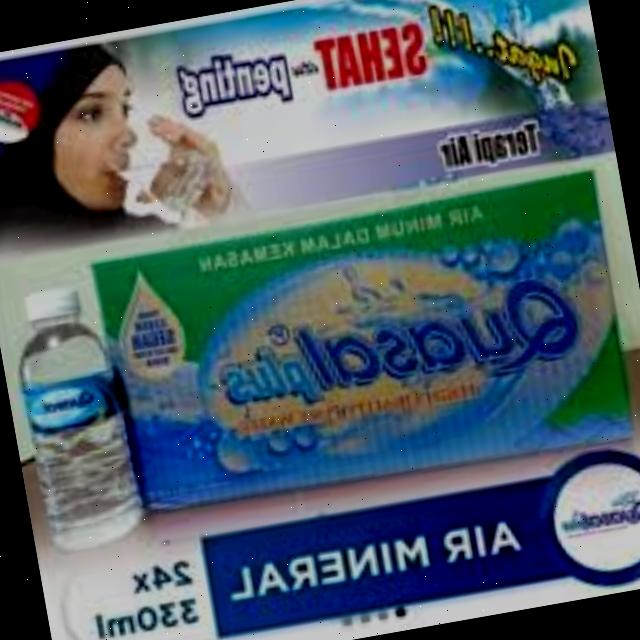trash: (0, 277, 150, 561)
